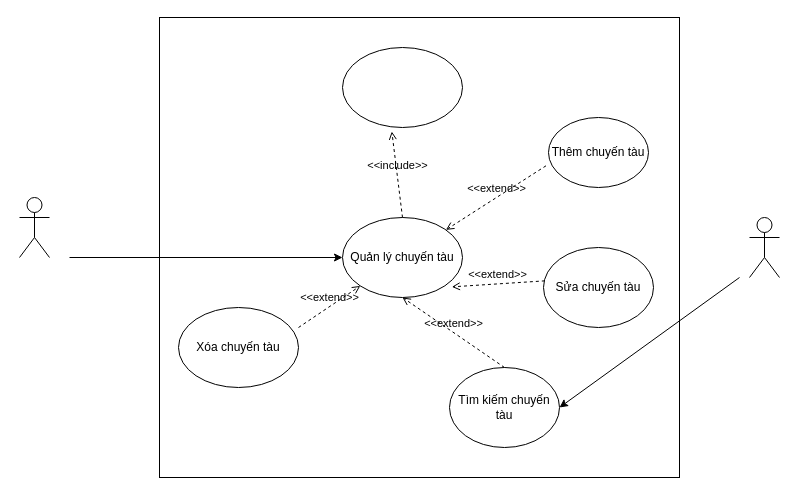
Some shapes in this 812 by 495 pixel diagram are drawn without their labels. The shapes that lost their labels are listed below. From the top down, each one's centre as x and y in pixels, then its label:
At (402,87): "Đăng nhập".
At (34,227): "Admin".
At (764,247): "khách hàng".
